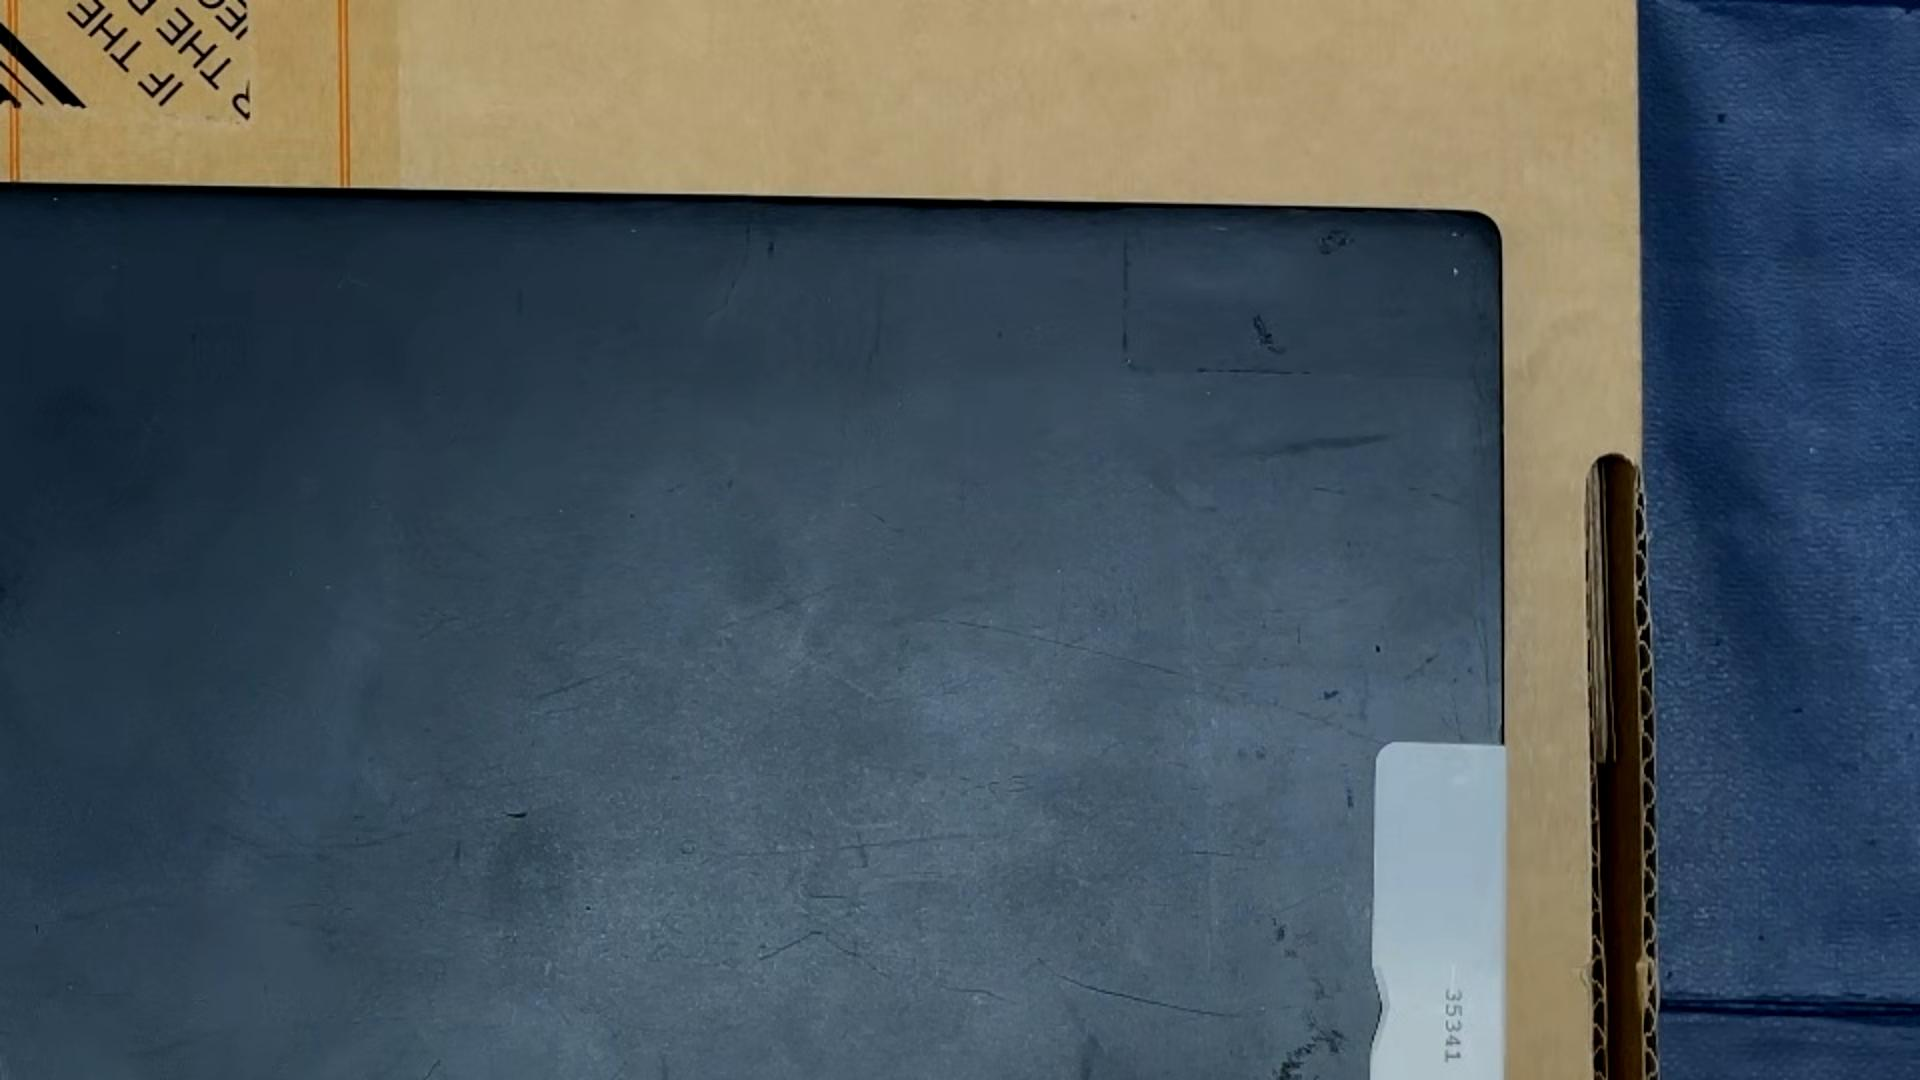chip: (1320, 686, 1342, 701), (1373, 640, 1383, 654), (1452, 266, 1460, 280), (1449, 230, 1460, 238)
scratches: (903, 616, 1391, 748), (534, 581, 840, 703), (1037, 960, 1245, 1020), (727, 829, 991, 858), (824, 937, 891, 979), (760, 929, 822, 962), (1481, 614, 1492, 740), (946, 986, 1007, 1003), (606, 1059, 629, 1080), (422, 1059, 442, 1080), (503, 810, 532, 819), (809, 894, 846, 900), (1297, 624, 1302, 646), (366, 1077, 372, 1080)
